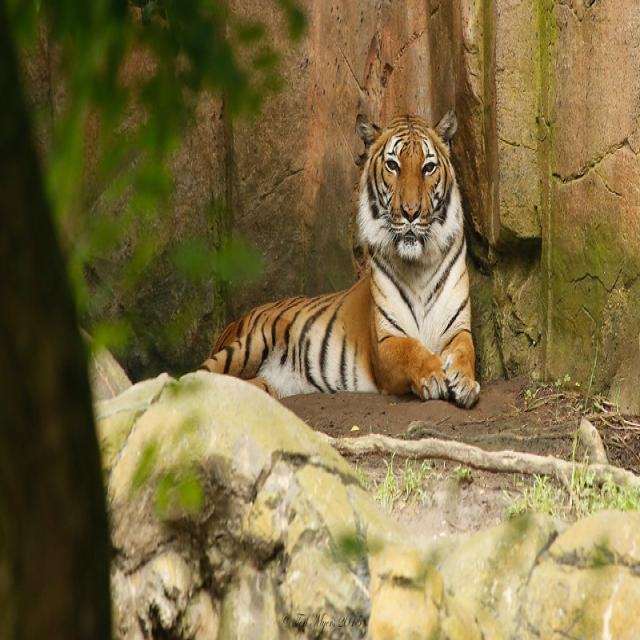Tiger: (188, 102, 482, 408)
